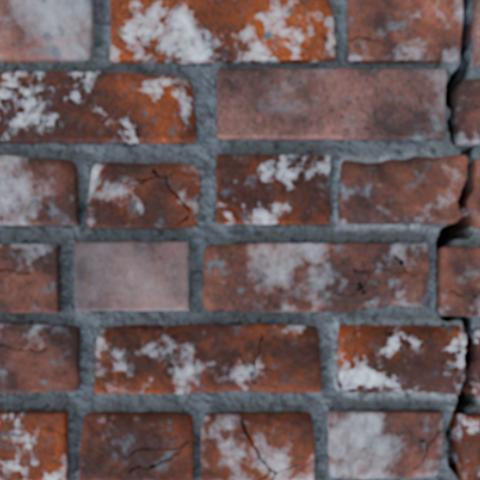brick: (218, 70, 445, 140), (95, 325, 321, 392), (203, 244, 429, 311), (111, 0, 335, 63), (0, 72, 196, 143), (328, 411, 442, 478), (76, 243, 189, 310), (80, 412, 193, 479), (217, 156, 328, 224), (202, 412, 313, 479), (88, 164, 199, 229), (348, 0, 462, 63), (0, 0, 93, 62), (0, 324, 79, 392), (0, 157, 79, 225), (0, 411, 67, 479), (0, 244, 60, 311), (438, 248, 479, 316), (456, 79, 479, 144), (460, 415, 479, 479), (474, 0, 479, 65)
broken_brick: (337, 325, 465, 396), (338, 155, 466, 225), (471, 169, 479, 218), (475, 329, 479, 345), (476, 361, 479, 377), (475, 385, 479, 395), (475, 222, 479, 230)
crack: (412, 0, 479, 478), (240, 419, 299, 479)
